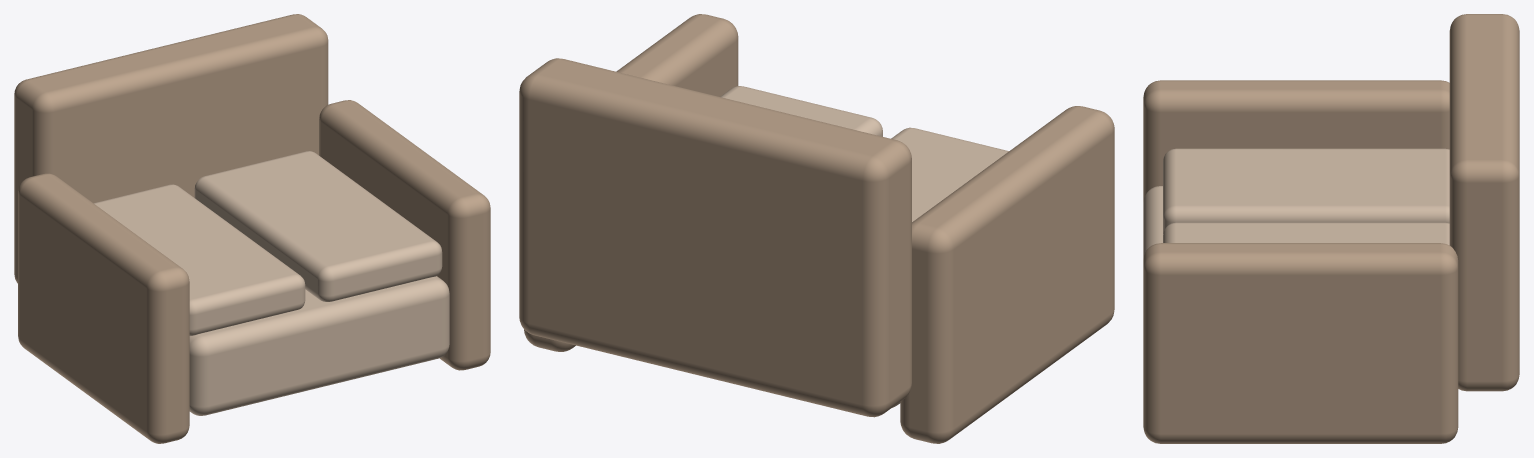
Rendered from sofa.glb.
The picture shows the model from 3 angles, left to right: view 1: azimuth 30°, elevation 25°; view 2: azimuth 150°, elevation 25°; view 3: azimuth 270°, elevation 25°; orthographic projection. The views are drawn at different scales.
Bounding box in the file's own units: 1 × 0.68 × 0.86.
